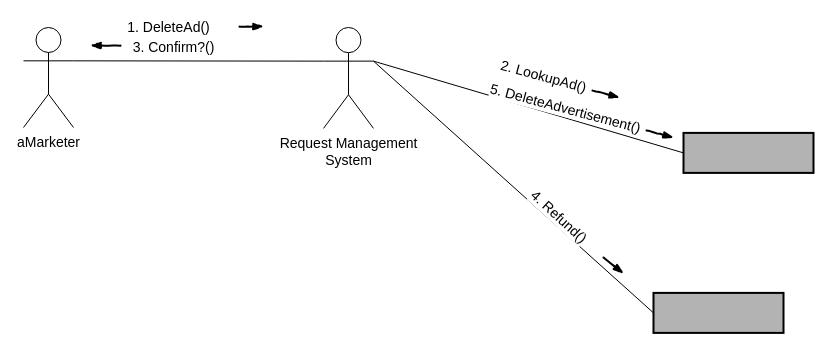
Image size: 832x351. Some labels were removed from this diagram. Here are the shapes that lost their labels. From the top down, the centre of each, then its label:
[748,152]: anAdvetisement: Advertisement
[718,312]: aPayment: Payment
